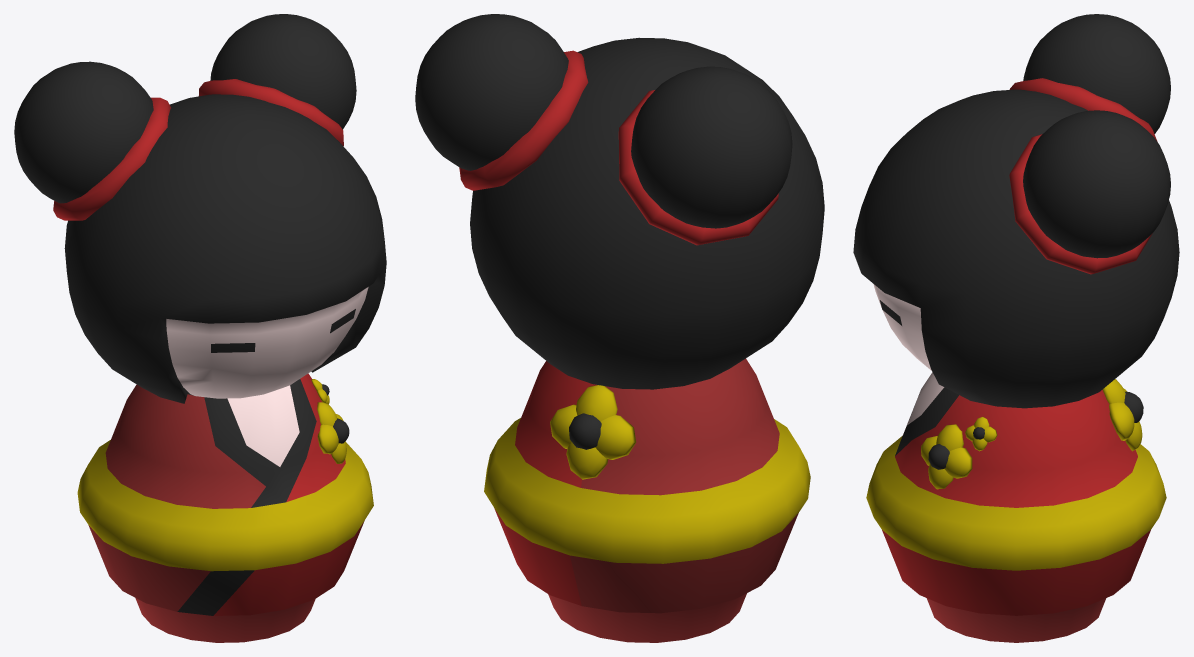
File: KOKESHI.fbx
3 renders of one model, left to right at view 1: azimuth 30°, elevation 25°; view 2: azimuth 150°, elevation 25°; view 3: azimuth 270°, elevation 25°, orthographic. The views are drawn at different scales.
Visible parts, largest first — view 1: polySurface27; view 2: polySurface27; view 3: polySurface27.
Part boxes in pixels (<box>): polySurface27: <box>14,14,386,642</box>; polySurface27: <box>415,14,824,642</box>; polySurface27: <box>853,14,1179,642</box>.
Bounding box in the file's own units: 22.86 × 36.02 × 19.82.
